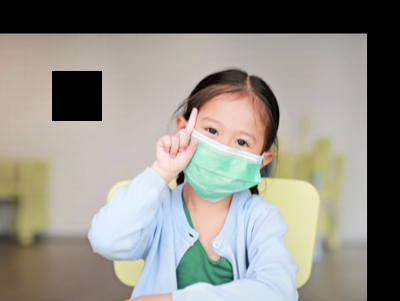with_mask: (188, 115, 264, 196)
